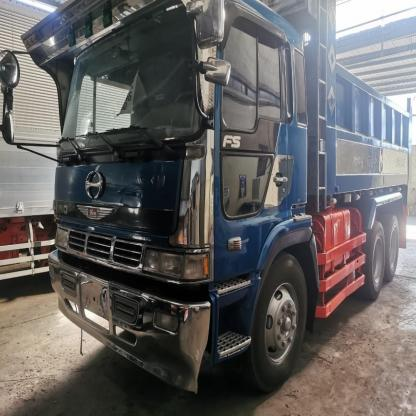dump_truck: (10, 3, 416, 400)
